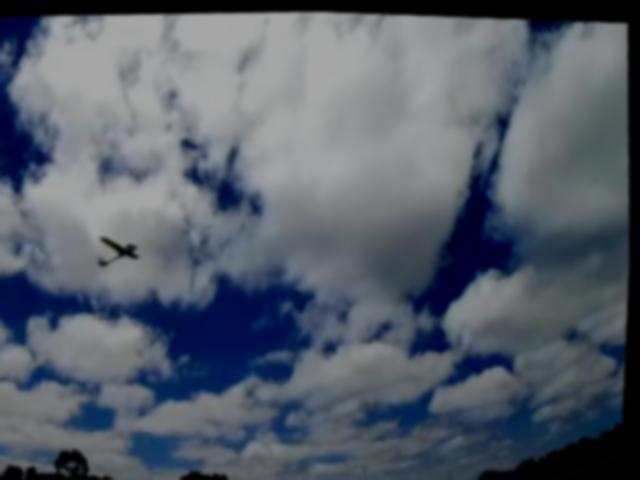uav: (92, 223, 153, 275)
